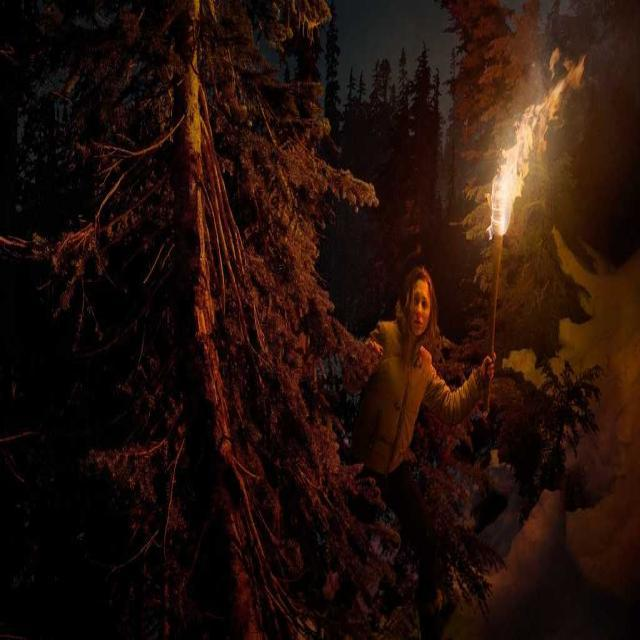Fire: (490, 38, 591, 236)
